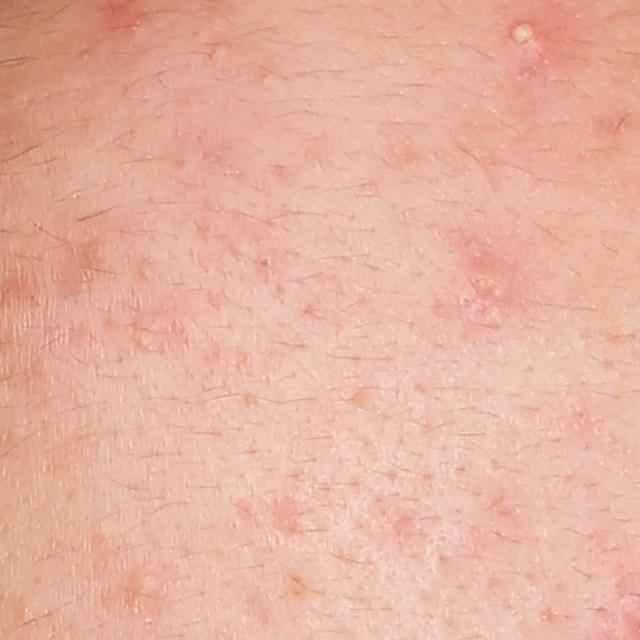comedo: (132, 572, 159, 599), (210, 41, 237, 63), (258, 255, 272, 269)
pustule: (500, 8, 558, 72), (456, 260, 516, 318)
